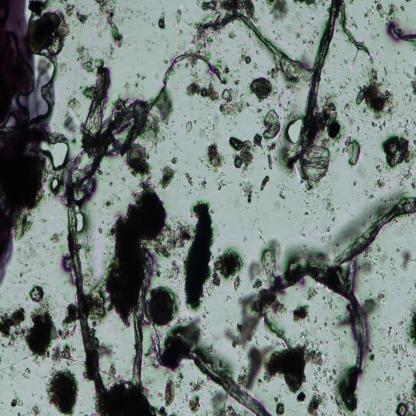Air bubble: (41, 138, 70, 168), (287, 117, 304, 144), (74, 204, 86, 233), (50, 176, 58, 188)
Background material: (105, 177, 163, 320), (263, 340, 325, 398), (353, 60, 395, 129), (150, 319, 201, 374), (222, 291, 265, 353), (27, 0, 71, 58), (23, 296, 59, 364), (298, 139, 333, 198), (100, 381, 158, 415), (325, 364, 364, 412), (44, 363, 78, 415), (147, 93, 181, 144), (153, 218, 192, 258), (96, 0, 127, 50), (249, 238, 278, 290), (83, 272, 112, 323), (237, 345, 266, 393), (314, 96, 344, 142), (322, 295, 356, 334), (230, 132, 264, 170), (0, 303, 27, 349), (212, 251, 243, 291), (218, 83, 250, 119), (275, 52, 304, 90), (364, 0, 410, 23), (383, 135, 416, 166), (394, 369, 416, 415), (378, 331, 406, 367), (63, 96, 86, 138), (319, 193, 337, 245), (360, 246, 387, 280), (58, 301, 80, 341), (198, 142, 226, 173), (90, 324, 113, 358), (64, 0, 90, 29), (209, 389, 238, 415), (250, 74, 273, 104), (76, 41, 98, 72), (402, 297, 416, 345), (265, 0, 291, 24), (362, 293, 386, 318), (187, 378, 204, 412), (158, 162, 177, 192), (344, 135, 362, 166), (263, 112, 281, 142), (307, 388, 326, 415), (374, 162, 390, 192), (163, 260, 182, 285), (292, 303, 312, 326), (265, 140, 280, 170), (396, 246, 414, 271), (268, 296, 288, 318), (397, 167, 416, 189), (239, 180, 256, 204), (164, 377, 176, 406), (126, 70, 145, 88), (292, 0, 326, 10), (62, 253, 75, 279), (52, 346, 72, 361), (237, 46, 251, 67), (183, 119, 198, 138), (215, 172, 229, 191), (30, 285, 46, 301), (409, 63, 416, 99), (10, 390, 23, 408), (259, 175, 271, 192), (295, 388, 307, 404), (306, 285, 317, 301), (157, 12, 166, 31), (184, 171, 194, 188), (50, 231, 61, 246), (275, 398, 285, 414), (198, 175, 208, 190), (30, 404, 42, 415), (175, 9, 183, 25), (169, 153, 179, 165)
Cellulose filter fibre: (247, 266, 367, 370), (64, 156, 109, 401), (298, 0, 370, 153), (197, 10, 312, 72), (83, 61, 150, 159), (334, 195, 416, 267), (189, 350, 270, 416), (131, 251, 155, 383), (155, 53, 221, 96), (391, 24, 416, 43)
Diatom: (149, 290, 174, 324), (128, 144, 146, 170)
Fragment: (184, 198, 214, 314)
Pen: (0, 1, 51, 286)
